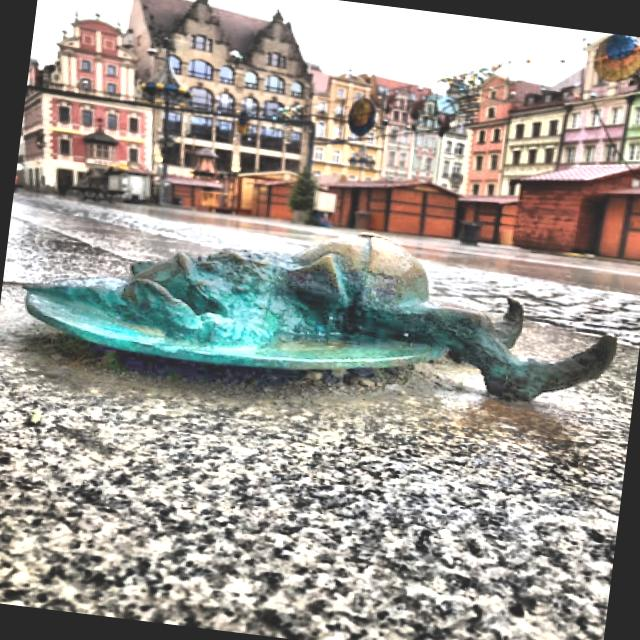Obiezysmak: (24, 240, 609, 404)
